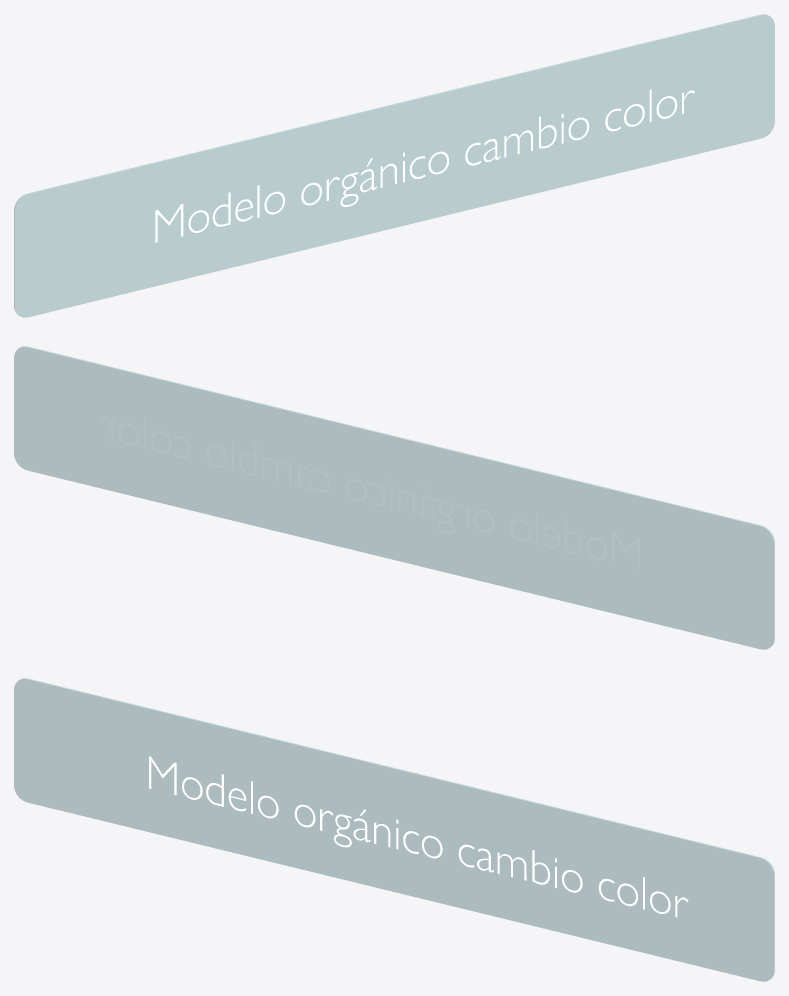
The model's file is Panel_boton_escena_03.glb.
3 renders of one model, top to bottom at view 1: azimuth 30°, elevation 25°; view 2: azimuth 150°, elevation 25°; view 3: azimuth 330°, elevation 25°, orthographic.
Parts seen in each view (by area): view 1: panel_boton_escena_03; view 2: panel_boton_escena_03; view 3: panel_boton_escena_03.
Part boxes in pixels (left/top/right/bottom): panel_boton_escena_03: left=14, top=14, right=774, bottom=317; panel_boton_escena_03: left=14, top=346, right=774, bottom=649; panel_boton_escena_03: left=14, top=678, right=774, bottom=981.
Bounding box in the file's own units: 1.24 × 0.1916 × 0.0107.
